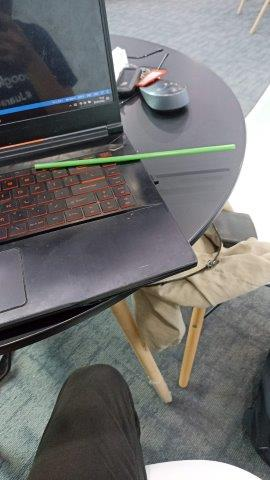sedotan: (35, 145, 235, 169)
